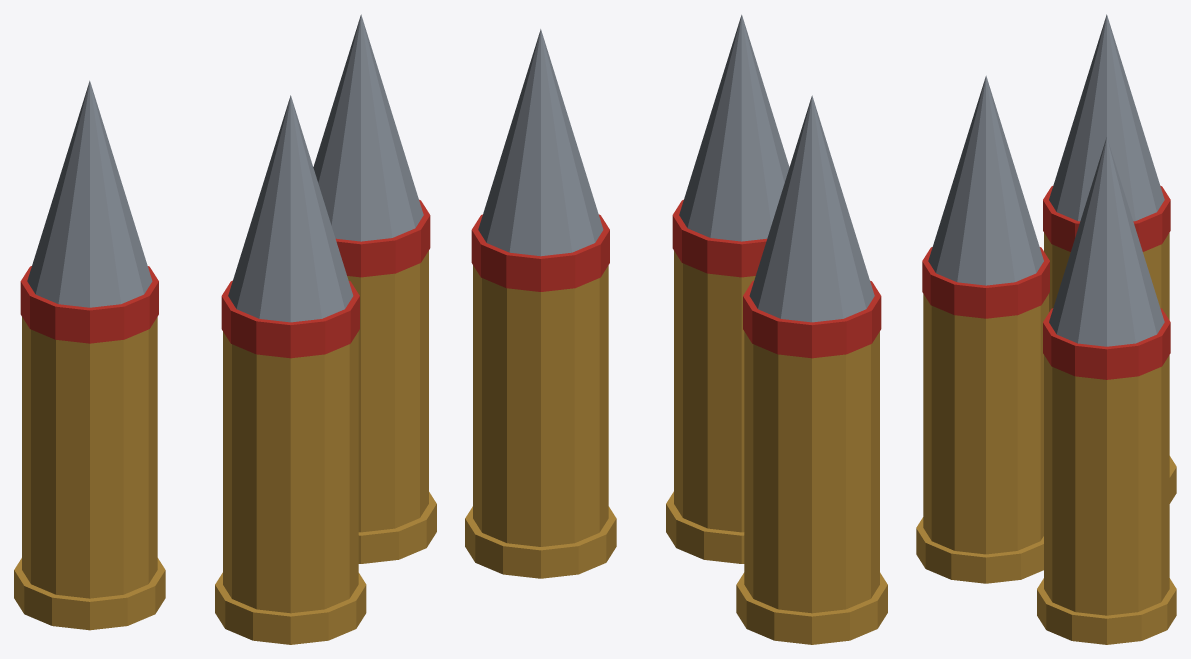
The model's file is GearApRounds.obj.
3 views of the same model, side by side, from view 1: azimuth 30°, elevation 25°; view 2: azimuth 150°, elevation 25°; view 3: azimuth 270°, elevation 25° (orthographic). The views are drawn at different scales.
Visible parts, largest first — view 1: GearApRounds; view 2: GearApRounds; view 3: GearApRounds.
Boxes of the visible parts, x1=… form: GearApRounds: x1=14, y1=14, x2=436, y2=644; GearApRounds: x1=465, y1=14, x2=887, y2=644; GearApRounds: x1=916, y1=14, x2=1176, y2=644.
Bounding box in the file's own units: 0.178 × 0.219 × 0.108.
